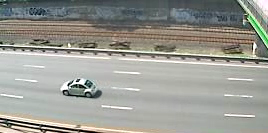car: (58, 76, 101, 100)
